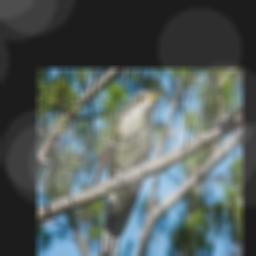Cuckoo: (91, 90, 162, 256)
